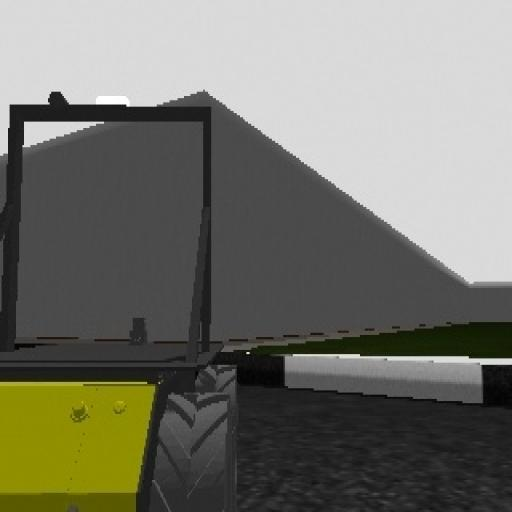huskya200: (2, 60, 258, 512)
